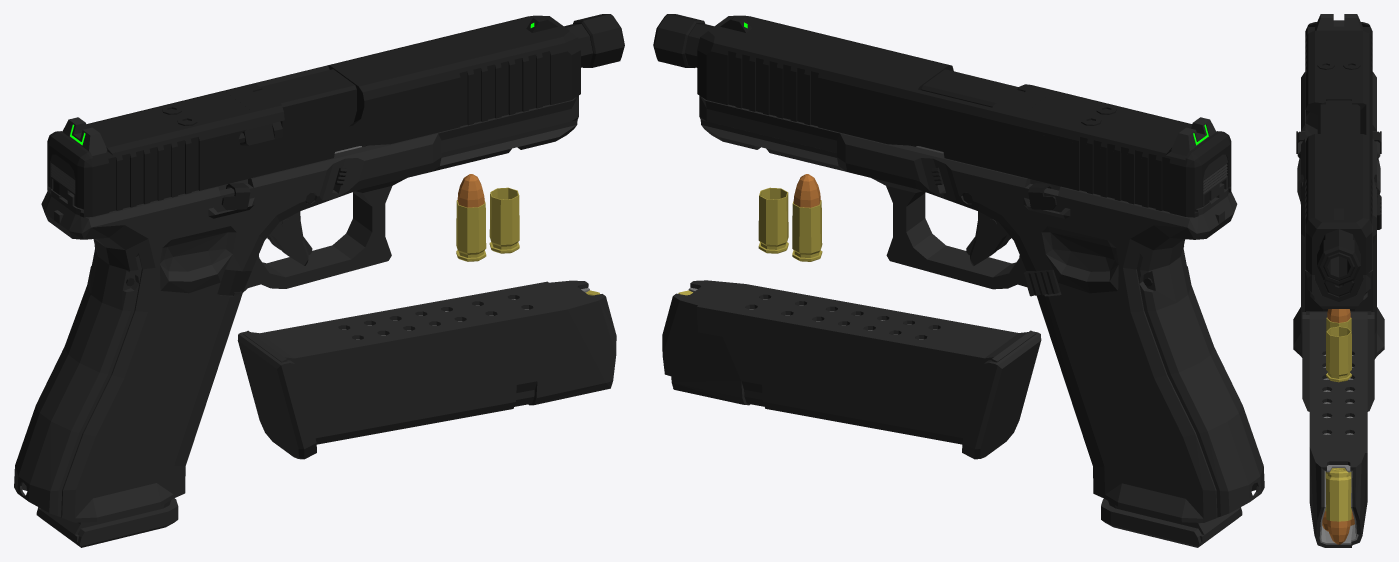
3 views of the same model, side by side, from view 1: azimuth 30°, elevation 25°; view 2: azimuth 150°, elevation 25°; view 3: azimuth 270°, elevation 25° (orthographic). The views are drawn at different scales.
Visible parts, largest first — view 1: g17g5 frame_3, g17 17rnd mag_2, g17g5mos slide_0, g17g5mos cover_8, g17 barrel threaded_1, g17 17rnd empty mag_4, 919 case_6, g17 muzzle nut_7, Object_22, g17 trigga_9, Object_23; view 2: g17g5 frame_3, g17 17rnd mag_2, g17g5mos slide_0, g17g5mos cover_8, g17 17rnd empty mag_4, g17 barrel threaded_1, 919 case_6, g17 muzzle nut_7, Object_22, g17 trigga_9, Object_23; view 3: g17 17rnd mag_2, g17g5mos slide_0, g17g5 frame_3, g17g5mos cover_8, g17 barrel threaded_1, 919 case_6, g17 muzzle nut_7, Object_23, g17g5 slide stop_10, Object_22.
Boxes of the visible parts, <box> form: g17g5 frame_3: <box>14,95,578,522</box>; g17 17rnd mag_2: <box>237,280,616,459</box>; g17g5mos slide_0: <box>47,15,580,217</box>; g17g5mos cover_8: <box>86,91,258,163</box>; g17 barrel threaded_1: <box>254,23,593,138</box>; g17 17rnd empty mag_4: <box>36,179,247,547</box>; 919 case_6: <box>489,187,519,253</box>; g17 muzzle nut_7: <box>573,14,624,67</box>; Object_22: <box>456,200,486,261</box>; g17 trigga_9: <box>267,211,312,265</box>; Object_23: <box>457,174,484,207</box>; g17g5 frame_3: <box>699,95,1264,522</box>; g17 17rnd mag_2: <box>662,280,1041,459</box>; g17g5mos slide_0: <box>697,15,1231,217</box>; g17g5mos cover_8: <box>1019,91,1192,163</box>; g17 17rnd empty mag_4: <box>1030,179,1242,547</box>; g17 barrel threaded_1: <box>685,23,1023,107</box>; 919 case_6: <box>758,187,788,253</box>; g17 muzzle nut_7: <box>653,14,705,67</box>; Object_22: <box>792,200,822,261</box>; g17 trigga_9: <box>966,211,1011,266</box>; Object_23: <box>793,174,820,207</box>; g17 17rnd mag_2: <box>1302,311,1374,547</box>; g17g5mos slide_0: <box>1305,14,1372,301</box>; g17g5 frame_3: <box>1293,72,1384,359</box>; g17g5mos cover_8: <box>1305,32,1372,98</box>; g17 barrel threaded_1: <box>1318,100,1360,280</box>; 919 case_6: <box>1326,326,1351,382</box>; g17 muzzle nut_7: <box>1317,234,1360,285</box>; Object_23: <box>1327,309,1350,322</box>; g17g5 slide stop_10: <box>1296,131,1381,153</box>; Object_22: <box>1326,317,1351,346</box>.
Bounding box in the file's own units: 2.18 × 1.42 × 0.3481.
